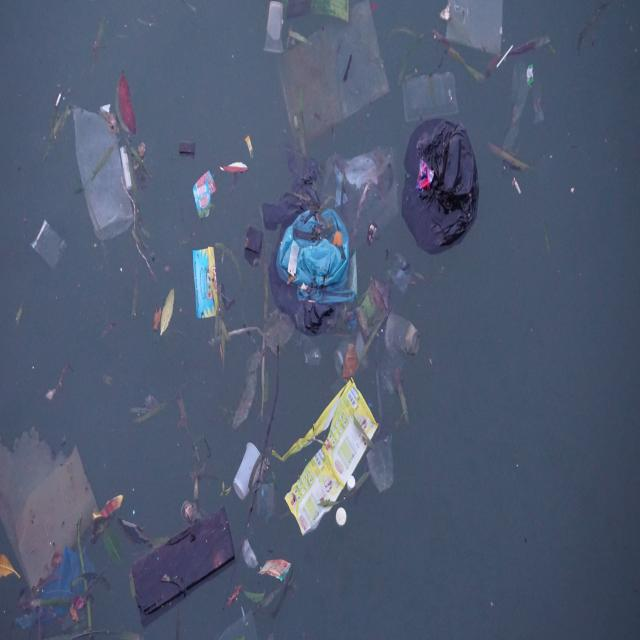Bungkus Minuman: (231, 438, 264, 507), (387, 307, 423, 362), (263, 1, 287, 60)
Kantong Plastik: (259, 178, 360, 338), (281, 1, 392, 143), (401, 120, 482, 251), (69, 100, 137, 245), (25, 546, 100, 627)
